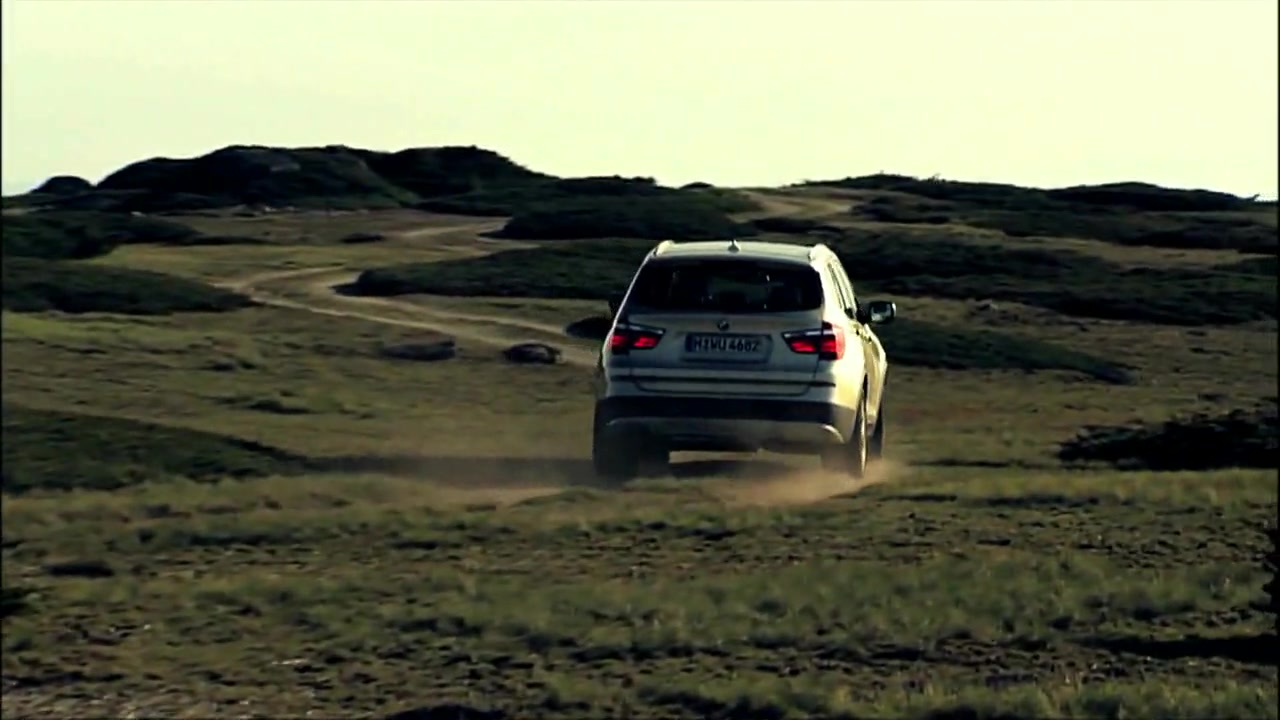car: (591, 233, 898, 482)
